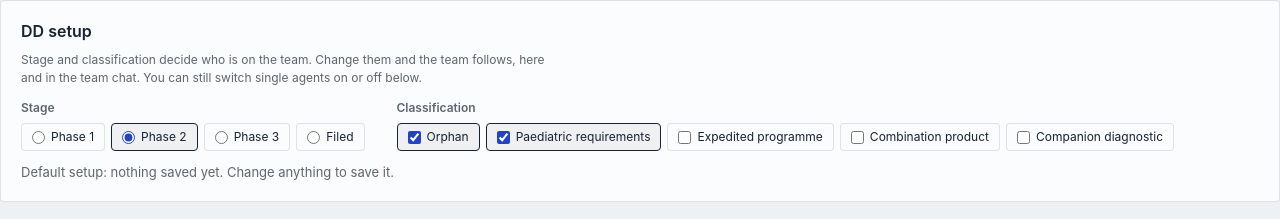
Scenario: DdSetupPanel › keeps the old setup when saving fails, and shows why with a reference
Click the radio button labelled "Phase 3". click: (221, 137)
box: [215,130,228,144]
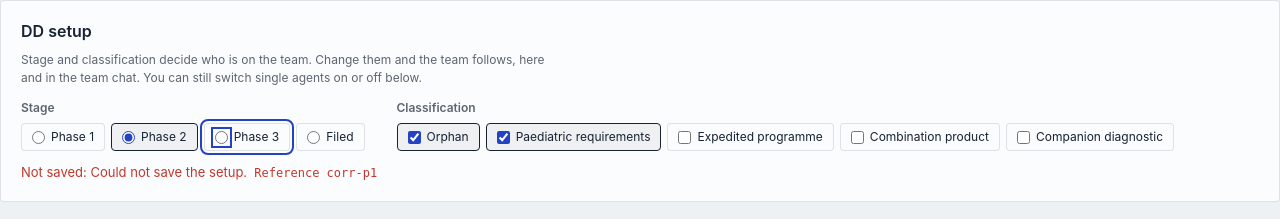
Check: the radio button labelled "Phase 2" is checked, box [122,130,135,144]
Check: the message shows "Not saved: Could not save the setup.", box [21,164,377,180]
Check: the message shows "corr-p1", box [327,166,377,180]
